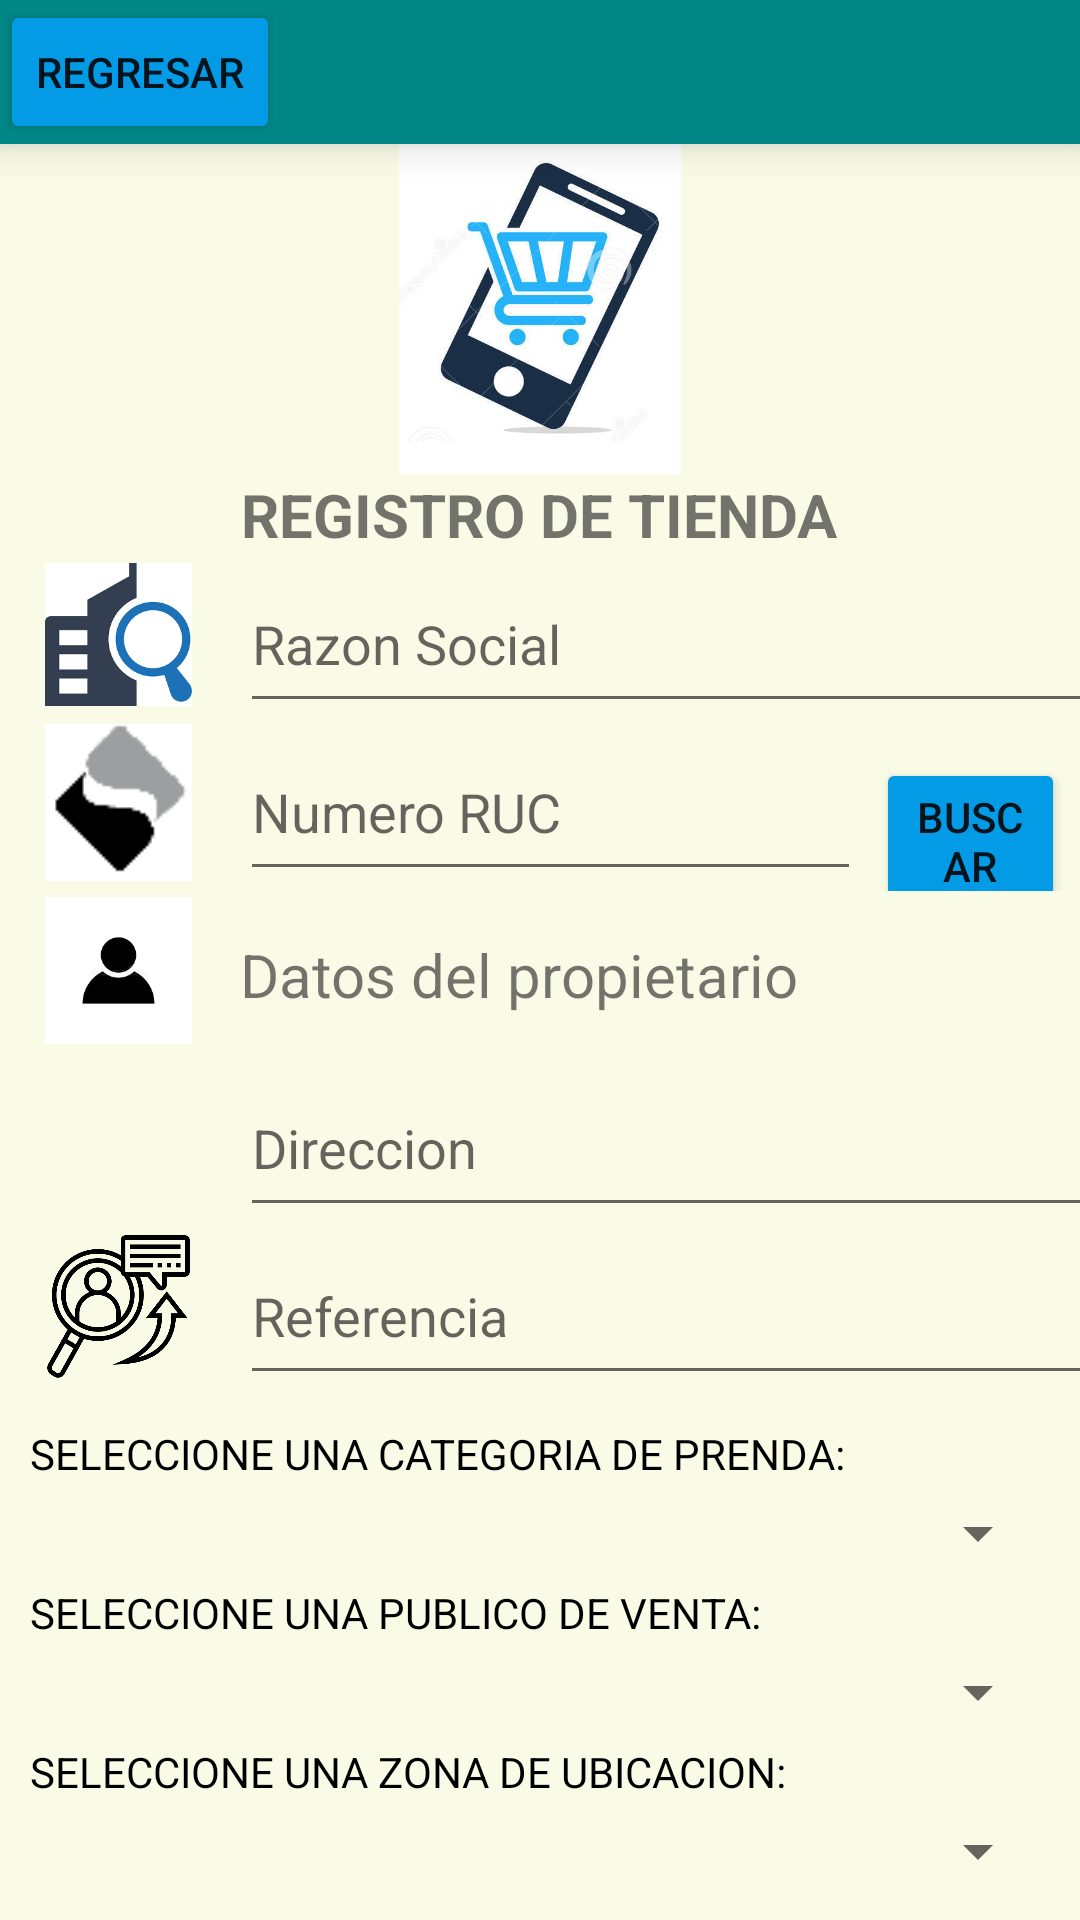

Point at icon controls on the screen. Image size 1080w x 1920h, points as [x,y].
person: [118,970]
reference: [118,1306]
